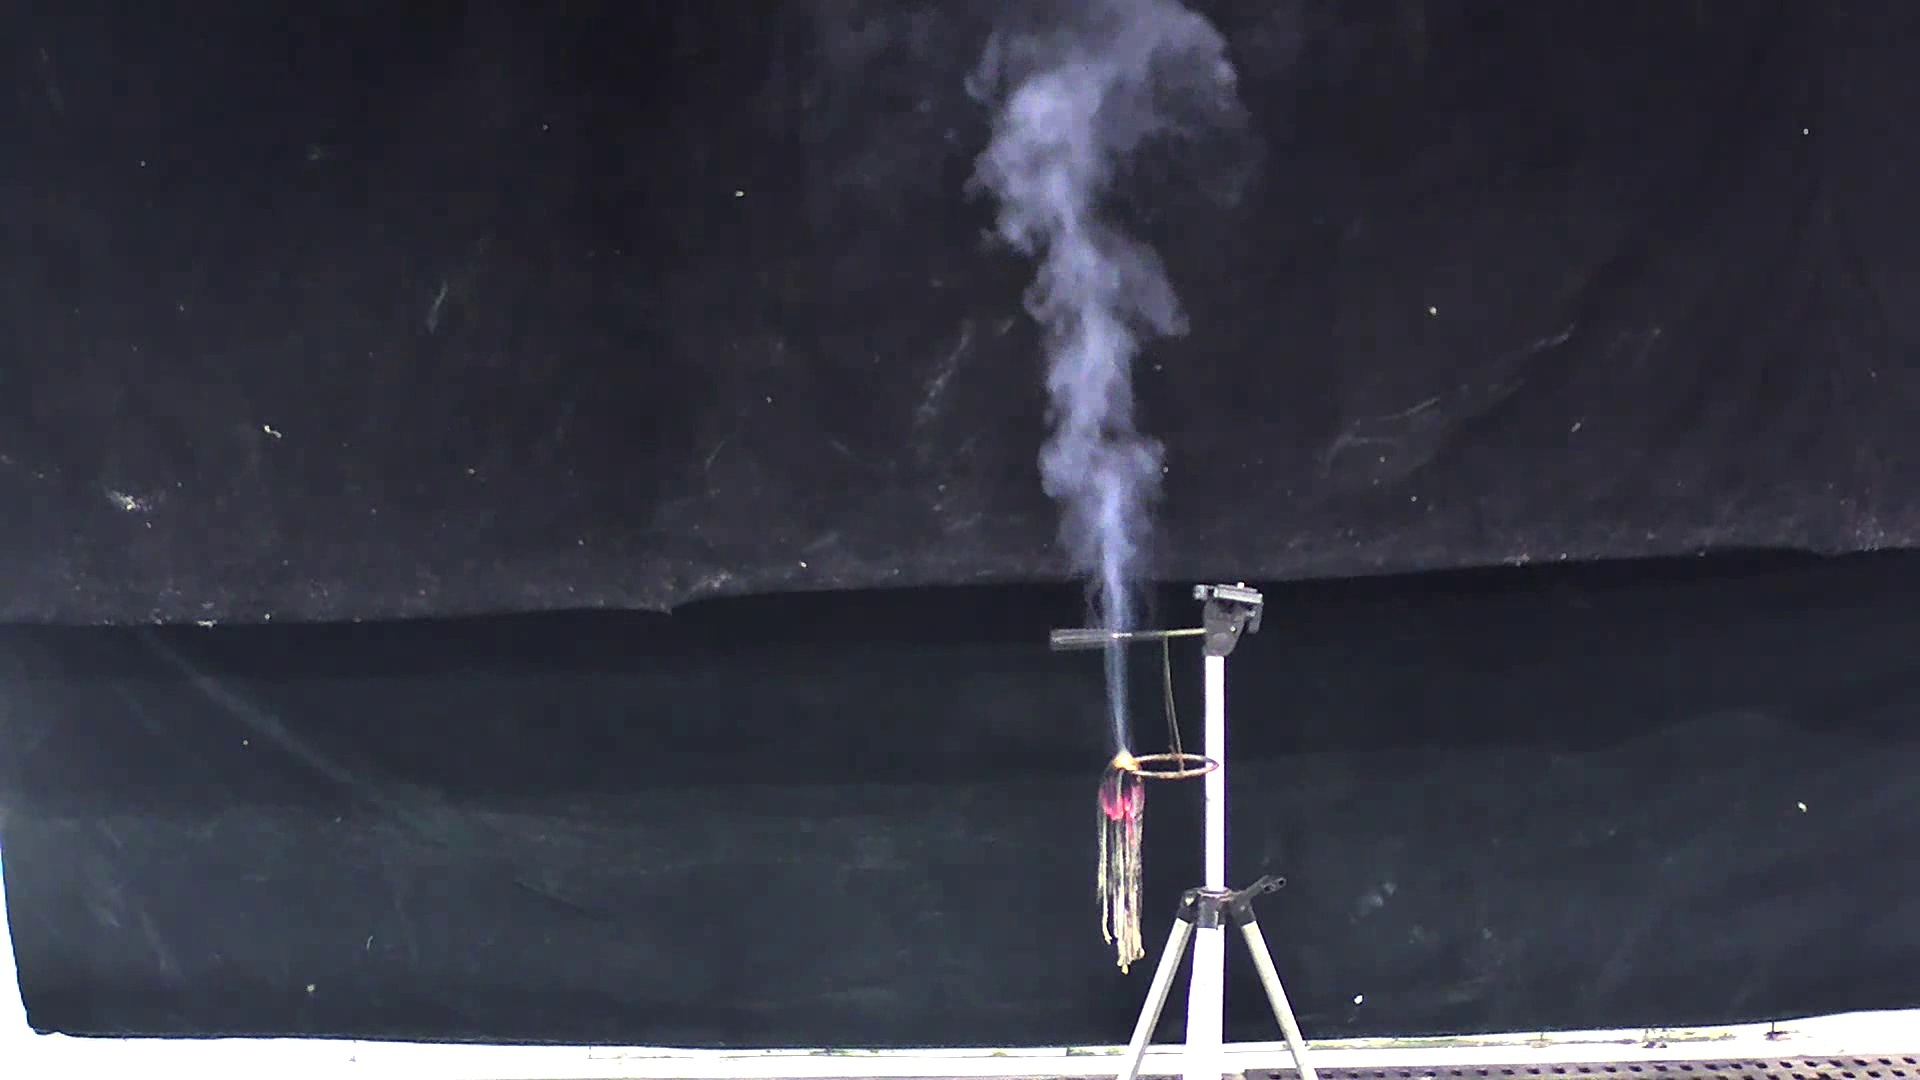smoke: (965, 22, 1208, 732)
